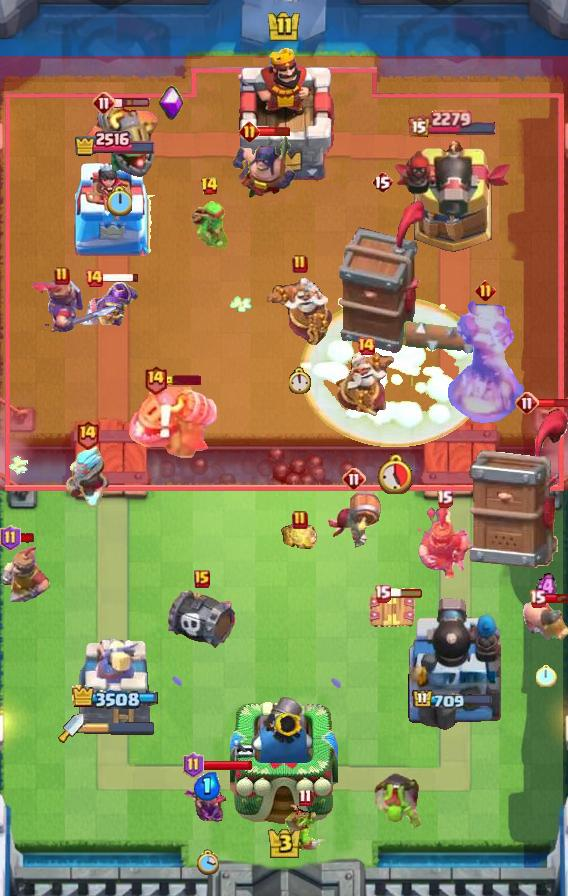bar: (77, 637, 151, 731)
bar-level: (372, 770, 422, 830)
dart-goblin: (468, 408, 568, 570), (337, 199, 427, 355)
earthquake: (416, 506, 471, 578), (0, 542, 50, 602)
electro-dragon: (446, 298, 524, 426)
electro-spirit: (194, 771, 221, 800), (536, 572, 557, 604)
elixir: (376, 454, 412, 495), (106, 186, 132, 216), (288, 366, 312, 393), (196, 849, 219, 876), (536, 664, 557, 687)
elixir-collector: (264, 277, 336, 353), (333, 349, 399, 419)
elixir-golem-big: (31, 274, 119, 332)
emote: (201, 759, 253, 771), (113, 97, 150, 109), (388, 587, 424, 599), (104, 273, 141, 284), (257, 126, 291, 137), (165, 375, 201, 385), (537, 397, 567, 409), (544, 592, 568, 604), (17, 532, 36, 544)
evolution-symbol: (180, 770, 234, 828)
executioner: (522, 596, 568, 640)
firecracker-evolution: (77, 281, 139, 328)
giant-snowball: (190, 199, 228, 249)
goblin-brawler: (368, 590, 418, 630)
ice-spirit-evolution: (280, 522, 320, 552)
king-tower: (229, 43, 339, 181), (230, 692, 338, 826)
king-tower-bar: (84, 721, 156, 735)
knight: (326, 490, 382, 550)
minion: (402, 320, 504, 358)
monk: (230, 131, 298, 201)
mortar: (62, 444, 112, 510)
night-witch: (125, 384, 219, 458), (78, 100, 160, 178)
phoenix-big: (298, 298, 490, 447)
queen-tower: (69, 158, 159, 256)
royal-recruit-evolution: (165, 588, 239, 652)
selected: (408, 109, 498, 137), (72, 129, 155, 157), (70, 686, 158, 711), (412, 689, 494, 711)
skeleton-king-skill: (158, 85, 184, 121)
text: (144, 364, 169, 395), (76, 419, 101, 449), (92, 91, 116, 115), (515, 391, 539, 415), (342, 467, 366, 491), (183, 752, 204, 778), (371, 170, 393, 194), (0, 525, 20, 551), (240, 121, 261, 142), (476, 280, 497, 301), (84, 268, 104, 288), (356, 336, 376, 356), (200, 176, 219, 196), (435, 489, 453, 508), (529, 589, 547, 608), (373, 584, 390, 603), (292, 254, 308, 274), (54, 266, 70, 286), (292, 510, 308, 530), (194, 570, 210, 588), (298, 789, 313, 807)
tower-bar: (392, 138, 514, 256), (405, 595, 501, 731)
zap: (284, 805, 327, 851)
